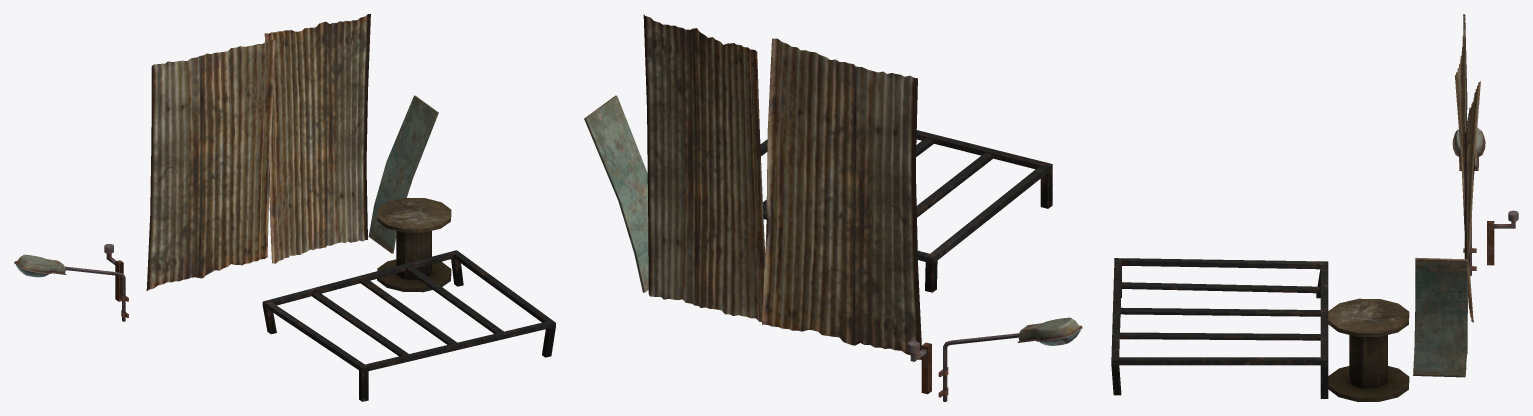
The model's file is Roof_AlwaysOn.FBX.
The picture shows the model from 3 angles, left to right: view 1: azimuth 30°, elevation 25°; view 2: azimuth 150°, elevation 25°; view 3: azimuth 270°, elevation 25°; orthographic projection. The views are drawn at different scales.
Visible parts, largest first — view 1: Roof_AlwaysOn; view 2: Roof_AlwaysOn; view 3: Roof_AlwaysOn.
Part boxes in pixels (x1,y1,x2,y2): Roof_AlwaysOn: [14, 14, 555, 401]; Roof_AlwaysOn: [584, 14, 1082, 401]; Roof_AlwaysOn: [1111, 14, 1518, 401].
Size of the model in its own units: 589 by 356 by 477.
